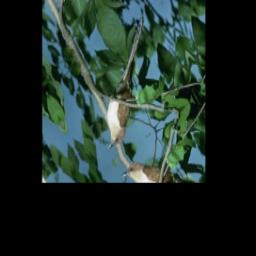Cuckoo: (67, 14, 183, 156)
